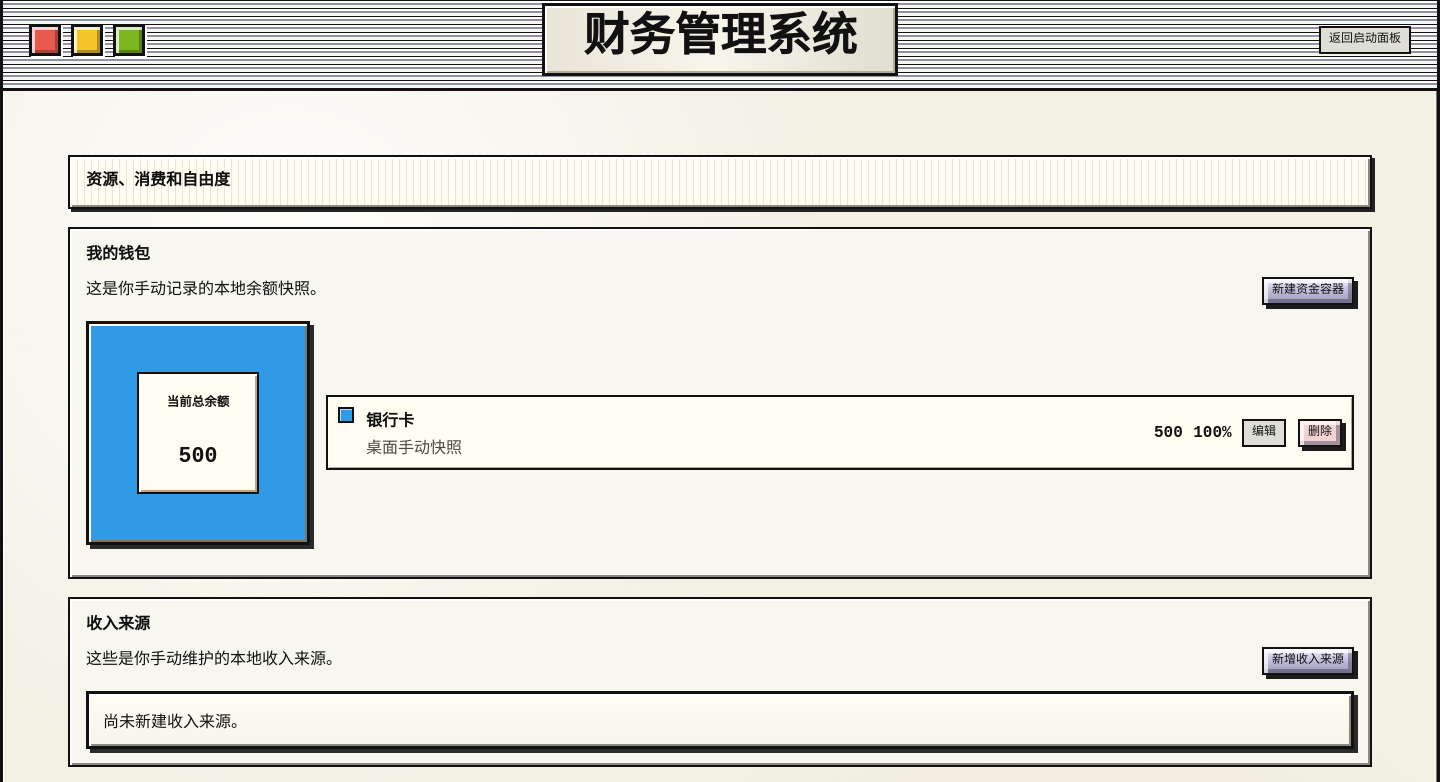
FinanceManagementPanel › lets the user edit an existing container and preserves createdAt
Click the button with aria-label "编辑银行卡" at point(1264, 433), box x1=1242 y1=419 x2=1286 y2=447
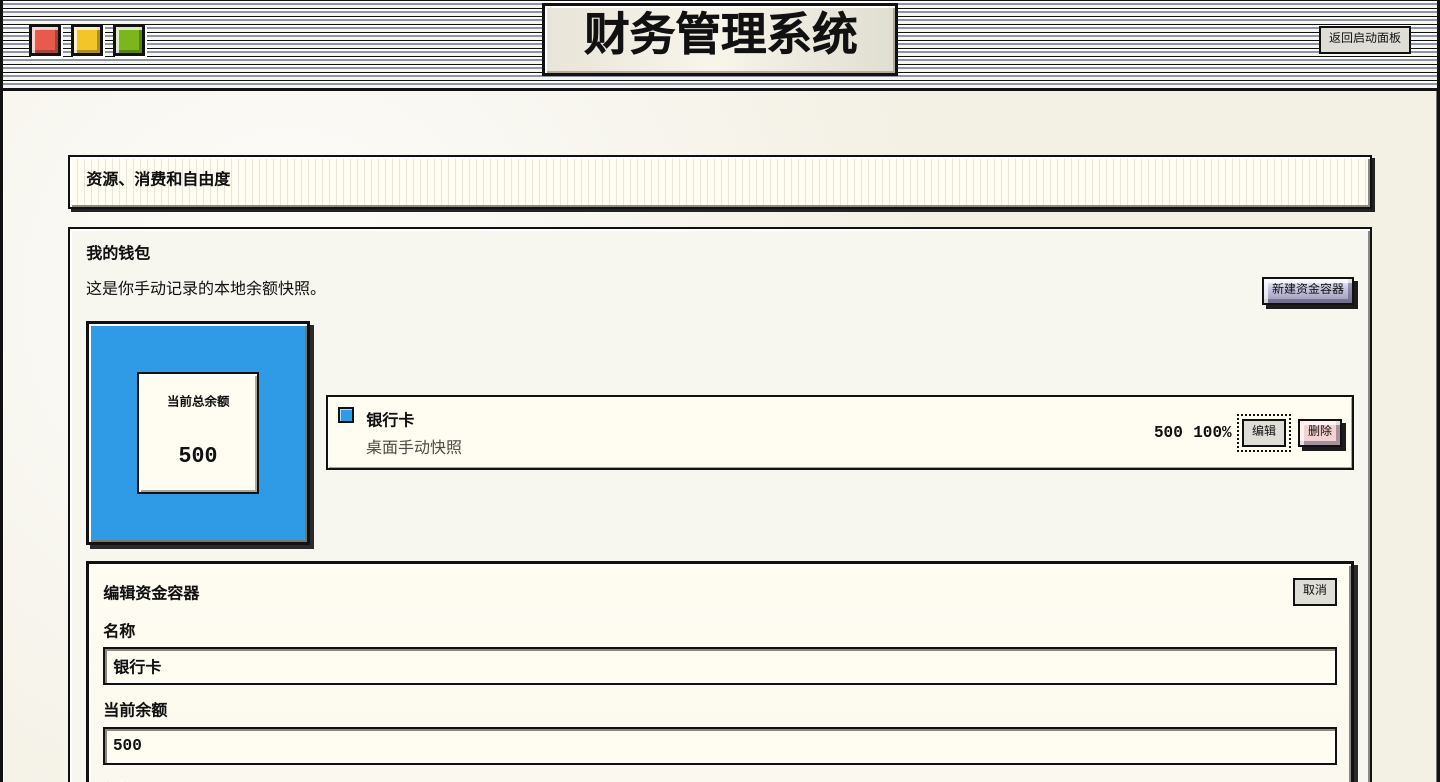
Replace the text in the number field labelled "当前余额" with "650" at point(720, 746), box x1=103 y1=727 x2=1337 y2=765
(page scrolled)
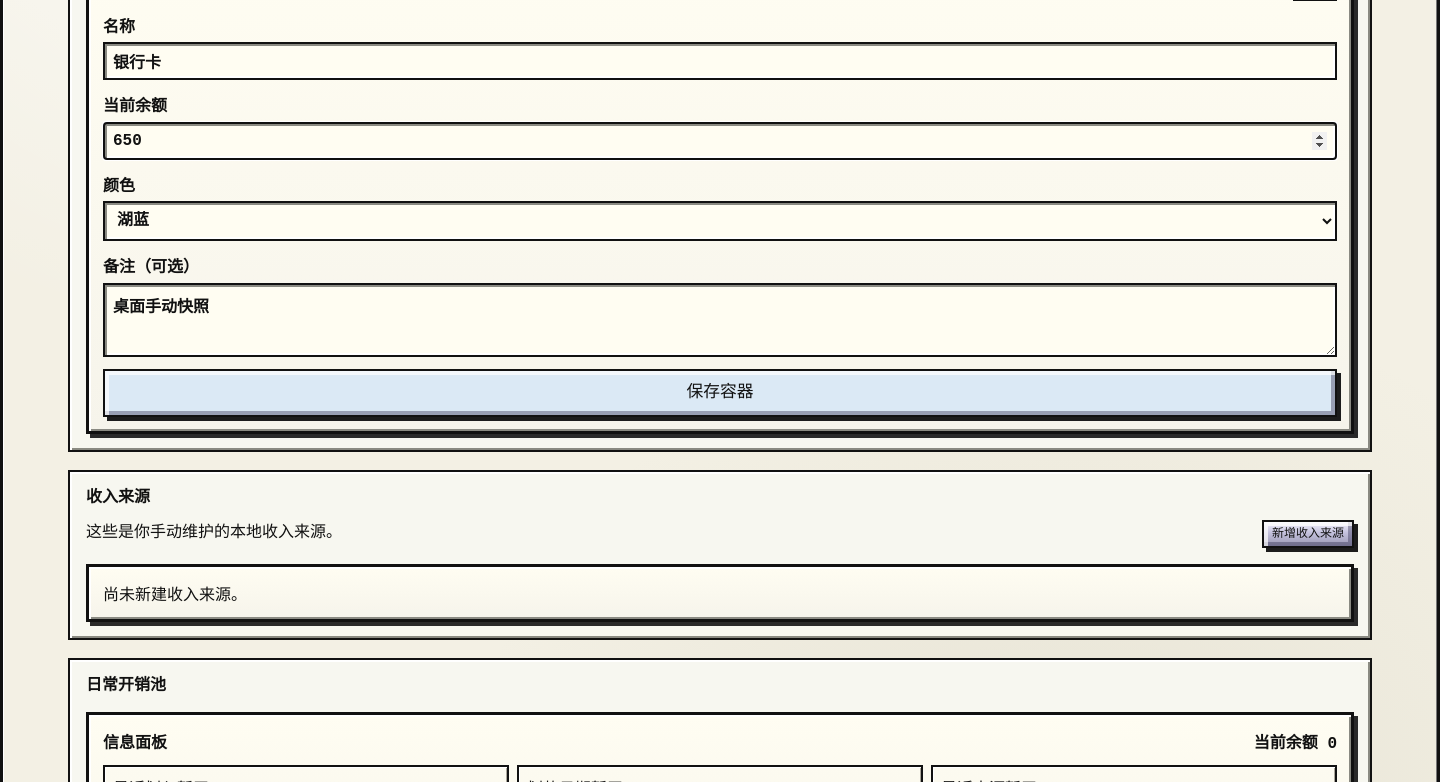
Click the button "保存容器" at point(720, 393), box x1=103 y1=369 x2=1337 y2=417
(page scrolled)
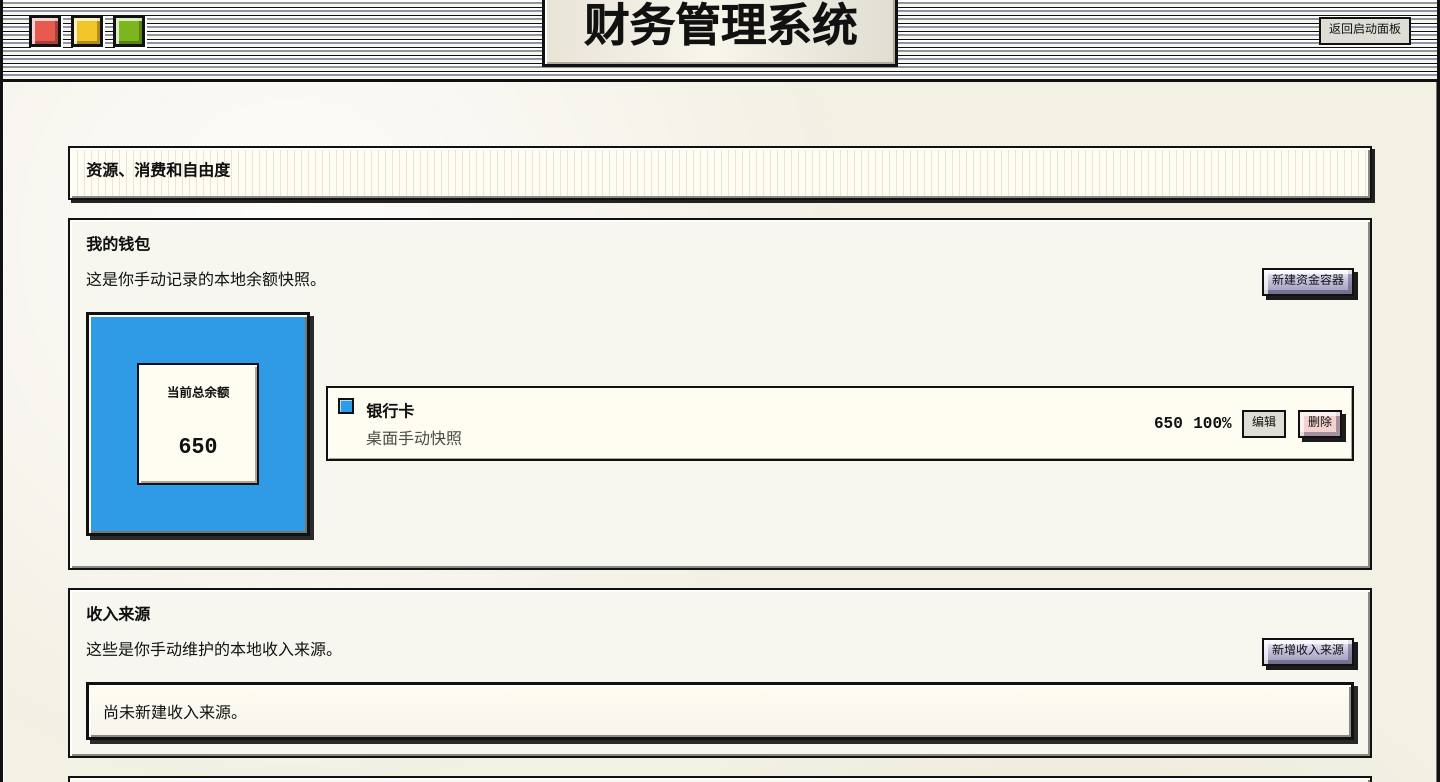
Now the element "我的钱包" shows "650", box x1=178 y1=436 x2=217 y2=460
